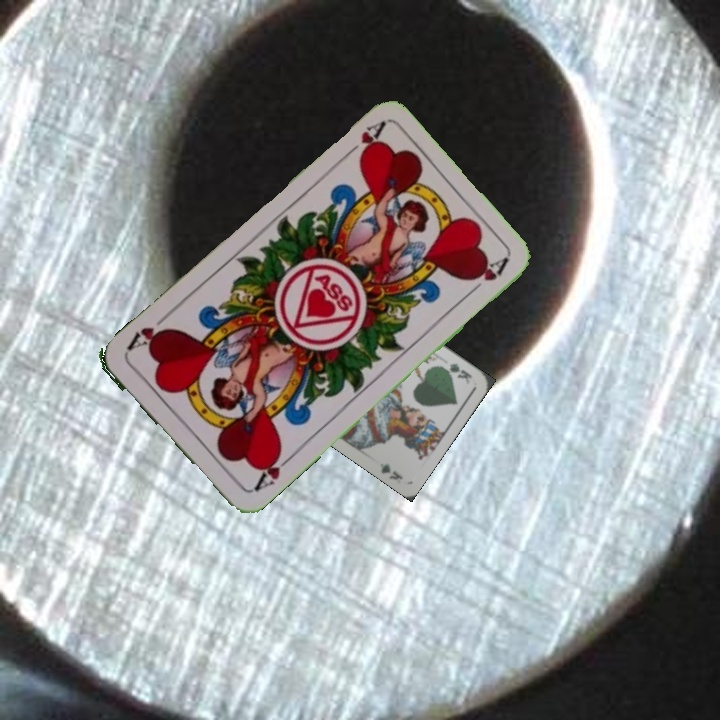GK: (437, 359, 474, 387)
HA: (245, 446, 295, 495), (337, 118, 388, 163)
